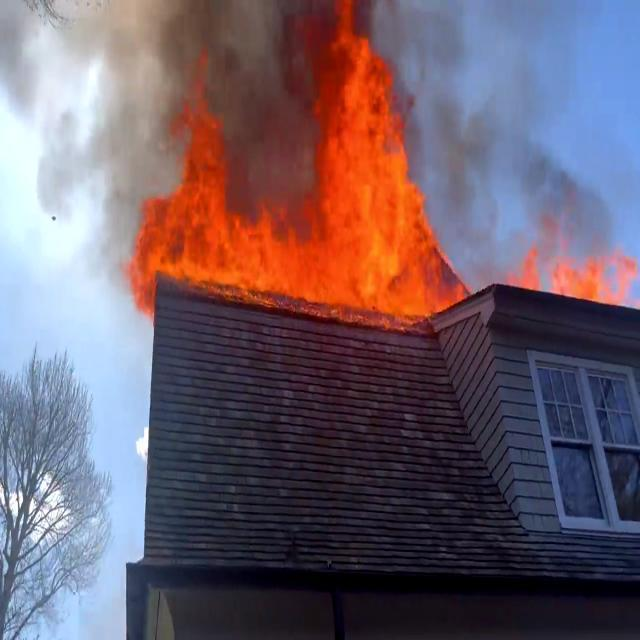Fire: (126, 58, 466, 316), (520, 240, 624, 298)
Smoke: (0, 0, 314, 174), (426, 95, 604, 247)
